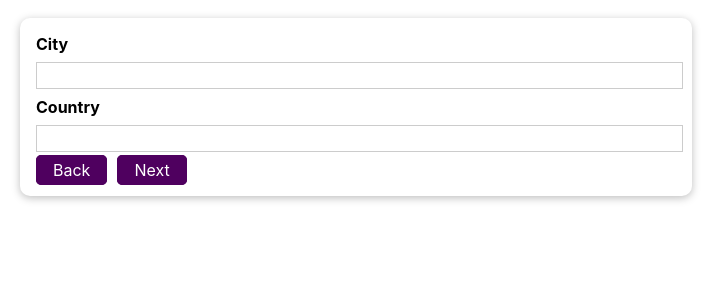
Test case: Moving from Step-1 to Step-2 form › Should keep city and country input data after moving from Step-2 to Step-1 form
This screenshot has width=713, height=281.
// Input random text in City field and check if the value was modified
Type "New York123" into the field with test id "city" at (359, 75), box x1=36 y1=62 x2=683 y2=89
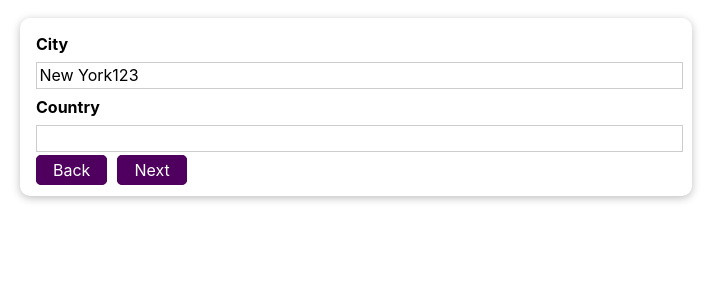
// Input random text in City and country fields and check if the value was modified
Type "USA asdf" into the field with test id "country" at (359, 138), box x1=36 y1=125 x2=683 y2=152
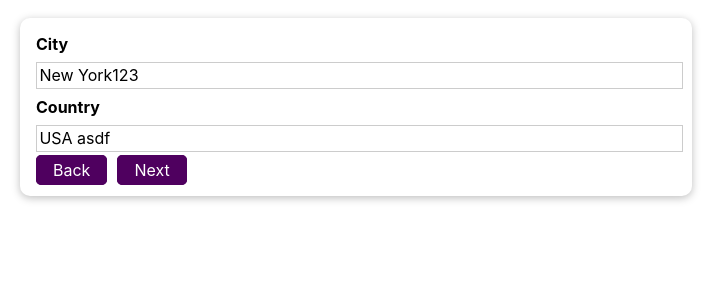
// Check if city and country fields are not present when navigating from Step-2 to Step-1
Click the link with test id "from2to1" at (72, 170), box x1=36 y1=155 x2=107 y2=185
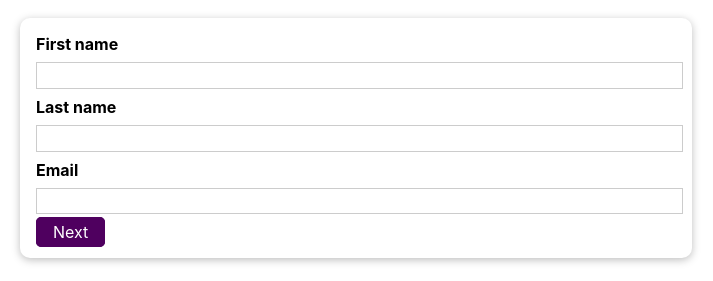
Expected: the label with test id "city" is gone
Expected: the label with test id "country" is gone
// Navigate back to Step-2 form and check city and country fields' values
Click the link with test id "from1to2" at (71, 232), box x1=36 y1=217 x2=105 y2=247
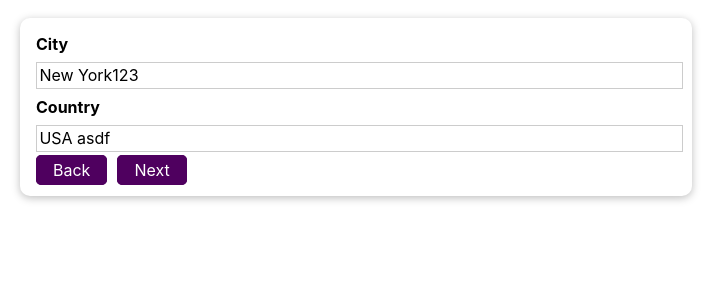
Expected: the field with test id "city" holds "New York123", x1=36 y1=62 x2=683 y2=89
Expected: the field with test id "country" holds "USA asdf", x1=36 y1=125 x2=683 y2=152
